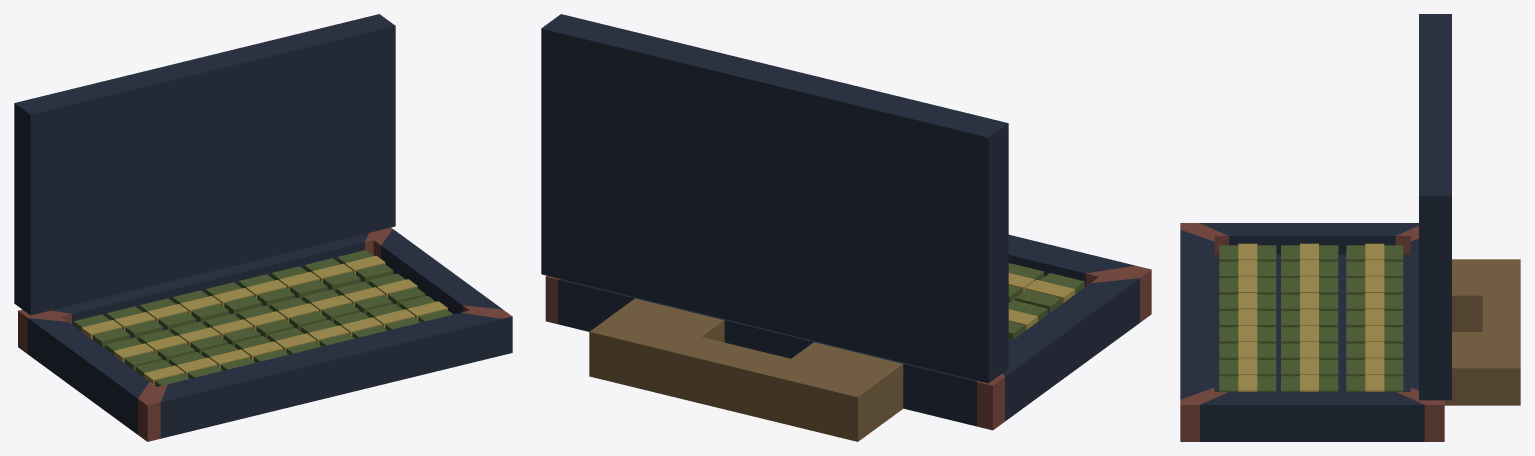
Rendered from maletin final nivel 1 .fbx.
3 views of the same model, side by side, from view 1: azimuth 30°, elevation 25°; view 2: azimuth 150°, elevation 25°; view 3: azimuth 270°, elevation 25° (orthographic). The views are drawn at different scales.
Parts seen in each view (by area): view 1: Cube.001; view 2: Cube.001; view 3: Cube.001.
Boxes of the visible parts, x1,y1,x2,y2 form: Cube.001: (14,14,512,441); Cube.001: (541,14,1151,441); Cube.001: (1180,14,1520,441).
Bounding box in the file's own units: 210 × 133 × 166.
